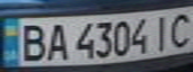0: (112, 17, 133, 57)
3: (93, 18, 115, 58)
4: (72, 19, 96, 61), (130, 15, 154, 54)
A: (42, 20, 72, 62)
B: (15, 20, 51, 62)
C: (166, 9, 193, 48)
I: (148, 11, 175, 51)
